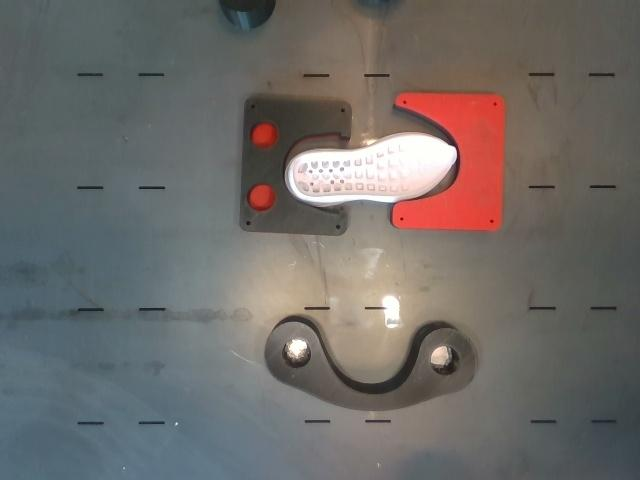shoes: (287, 134, 456, 203)
